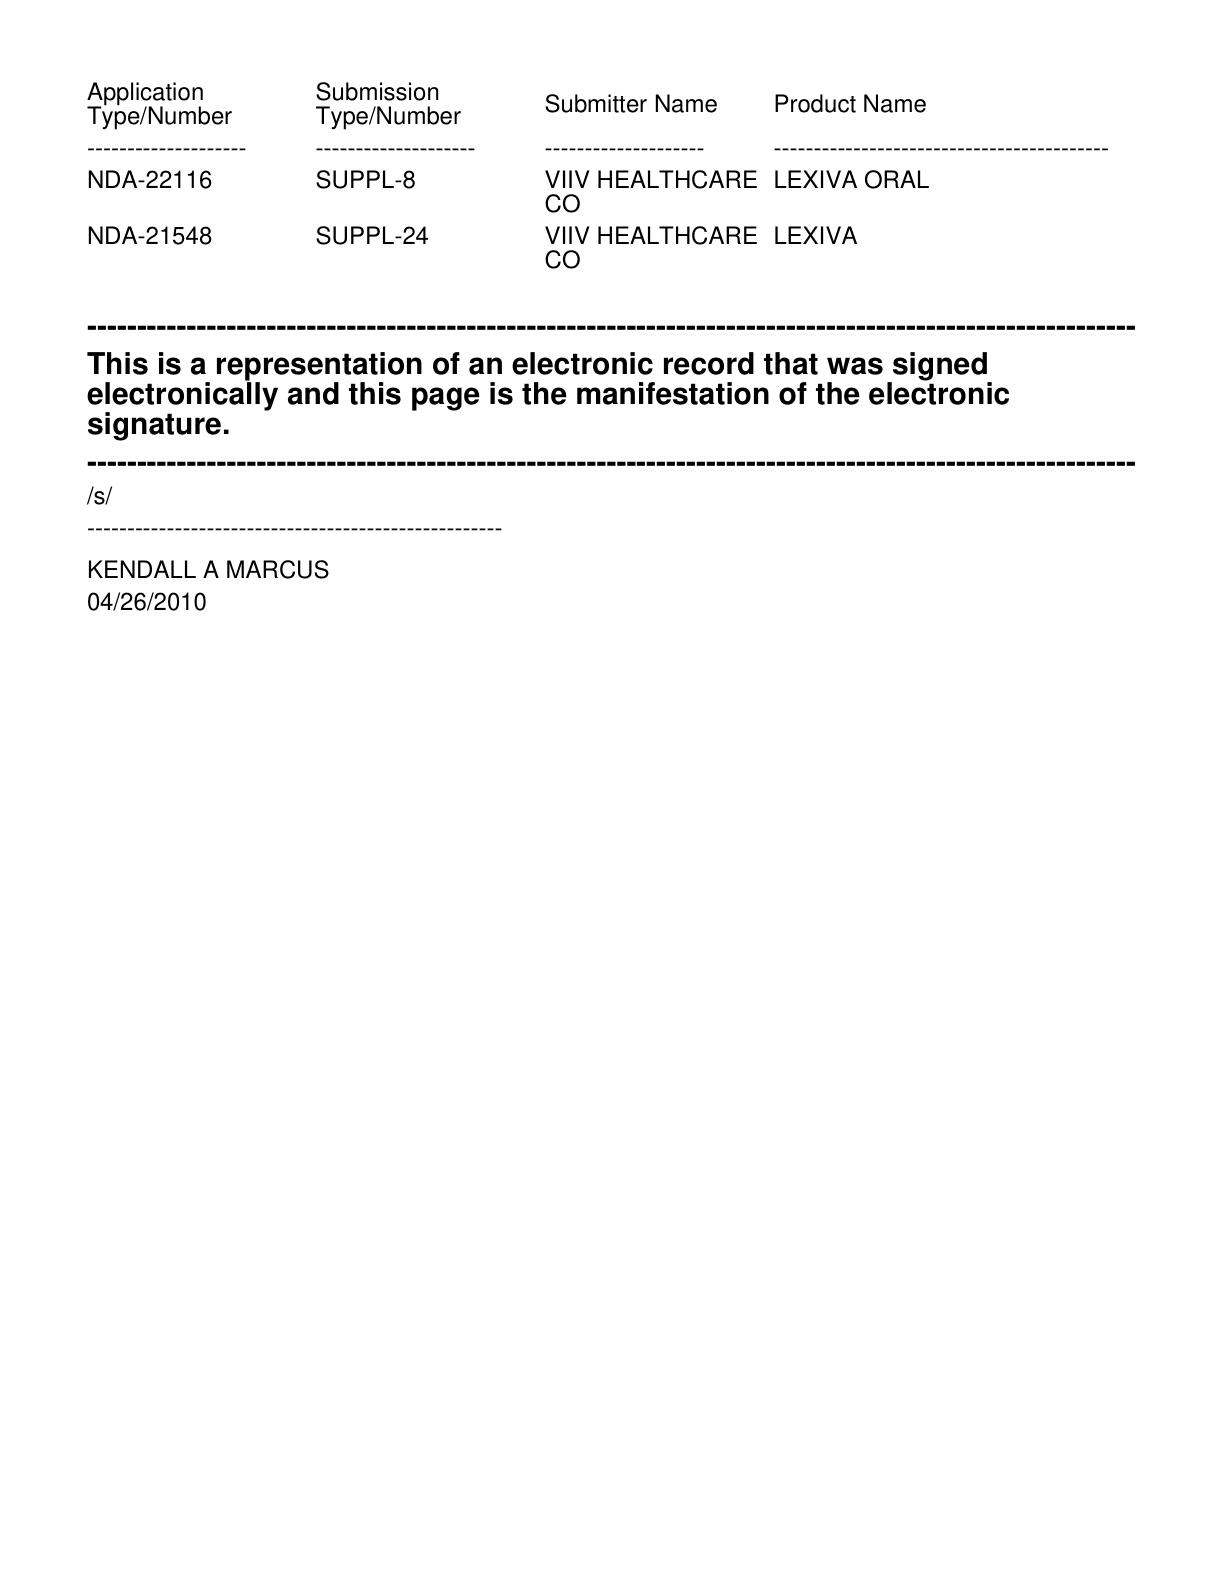nolines: (84, 77, 1110, 271)
